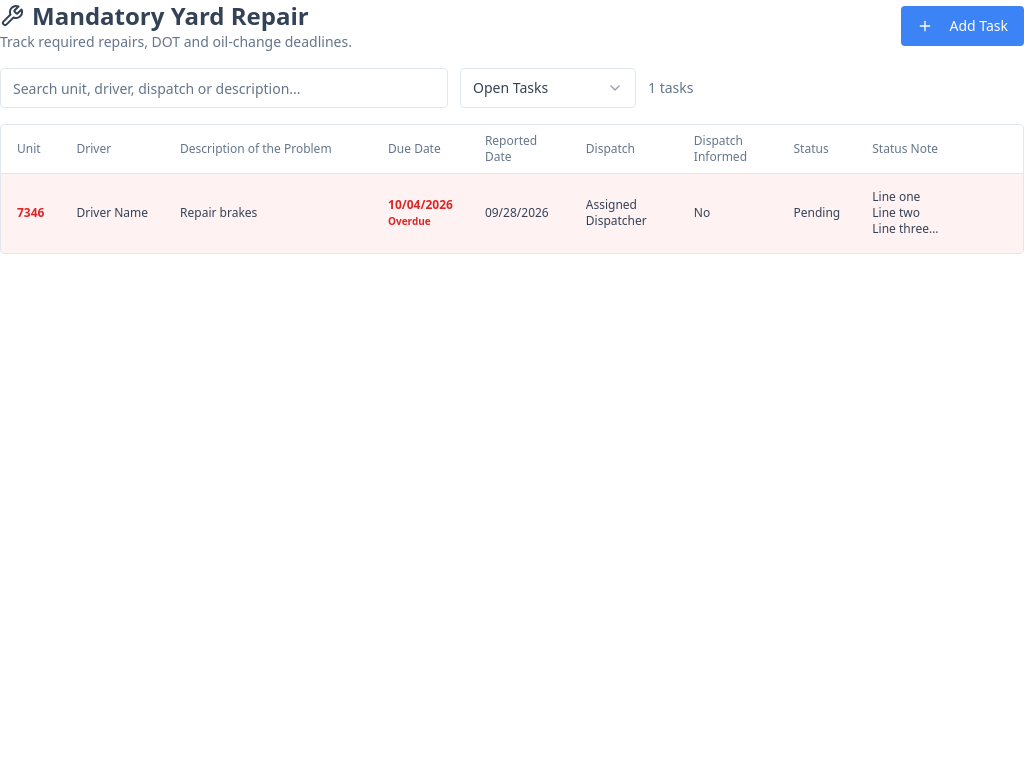
Mandatory Yard Repair page › opens the full three-line-clamped note for maintenance without changing it
The width and height of the screenshot is (1024, 768).
Later steps or results of the test are not shown.
Click the button with aria-label "View full status note for unit 7346".
click(936, 213)  # box [872,189,1000,237]
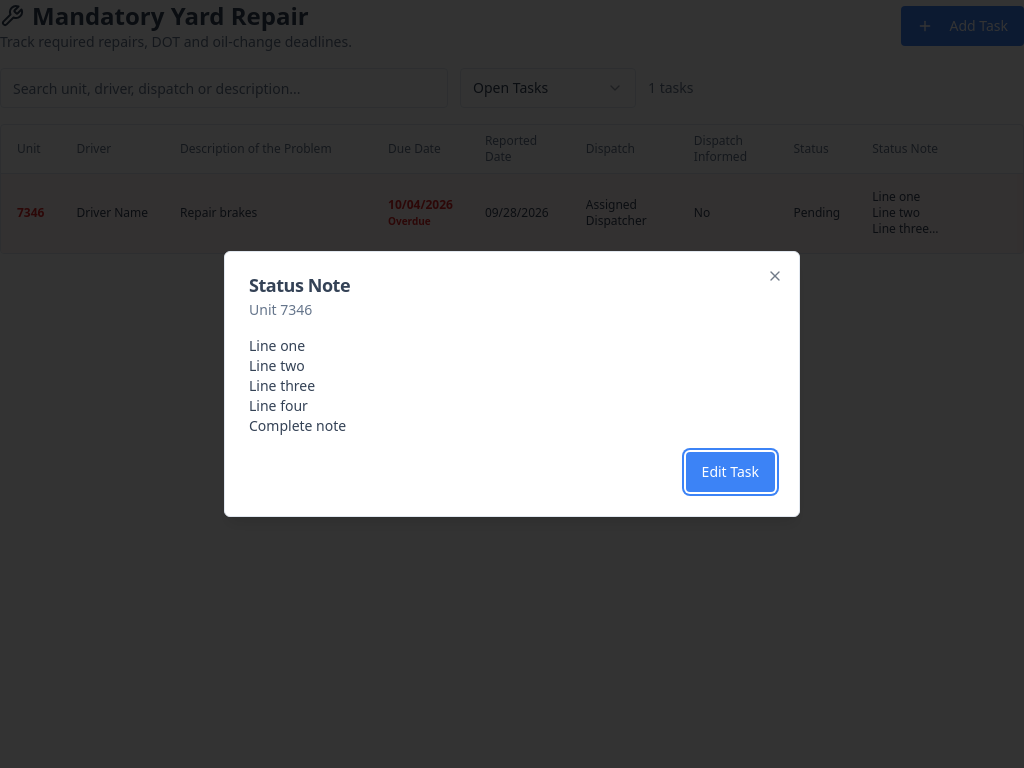
Expected: the dialog shows "Line four", [249,336,346,435]
Expected: the dialog shows "Complete note", [249,336,346,435]
